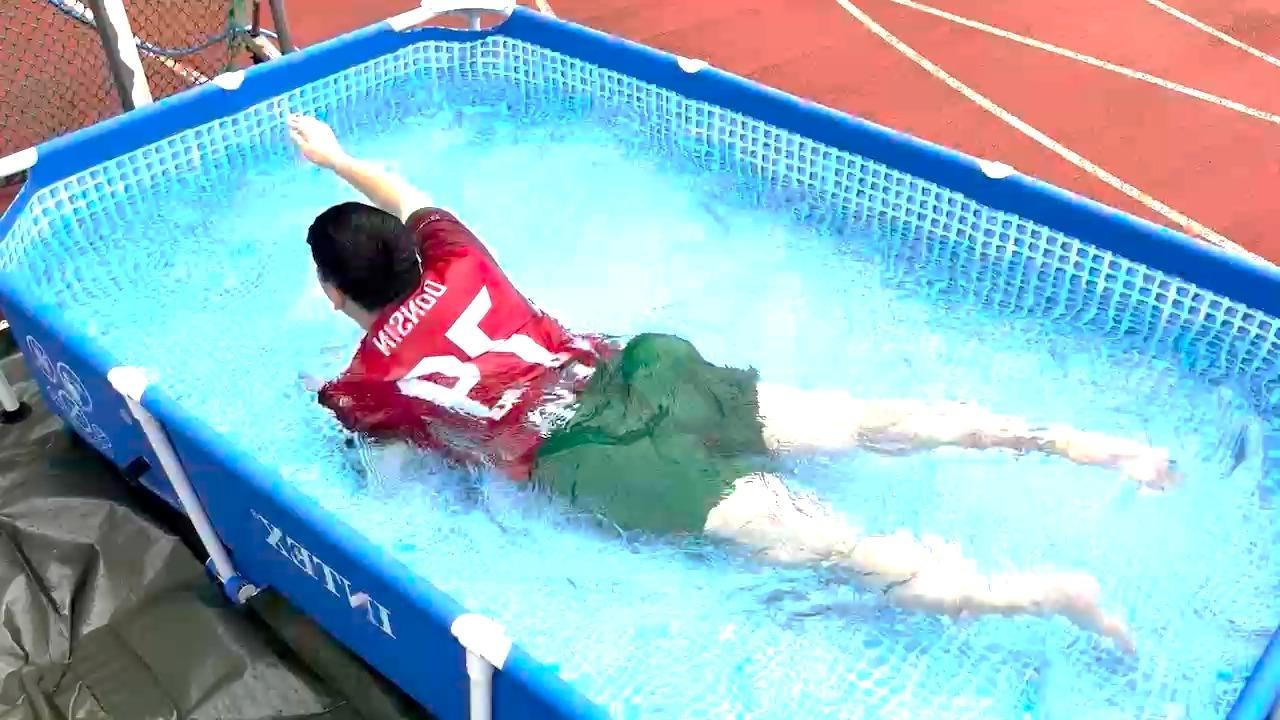Swimming: (248, 66, 1193, 664)
